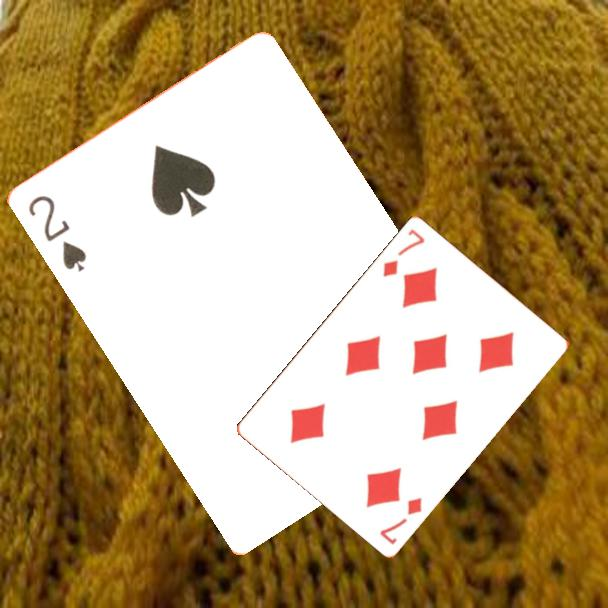d07: (376, 493, 425, 547), (379, 225, 427, 279)
s02: (24, 191, 89, 275)
